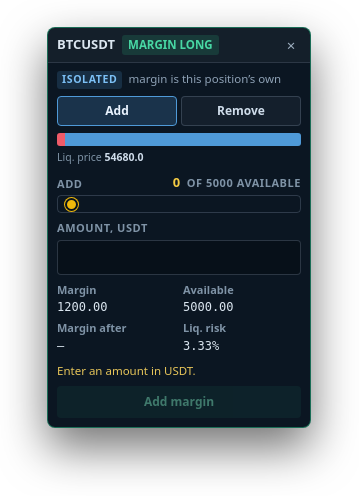
Test: FuturesPositionMarginEditor › states the liquidation risk before and after the adjustment
The image size is (359, 496).
Expected: the form named "Adjust BTCUSDT LONG position margin" shows "Liq. risk", [183,320,226,335]
Expected: the form named "Adjust BTCUSDT LONG position margin" shows "3.33%", [183,338,219,352]
In the field named "Margin amount in USDT": (179, 257) [57,240,301,274], type "600"
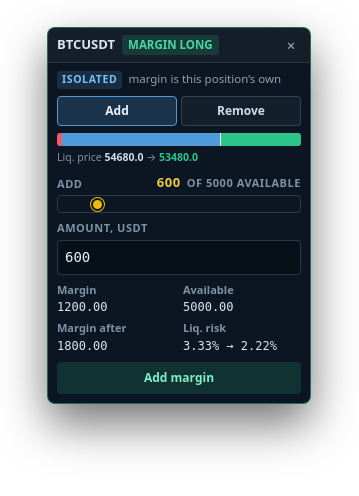
Now the form named "Adjust BTCUSDT LONG position margin" shows "3.33% → 2.22%", box [47,27,311,404]
